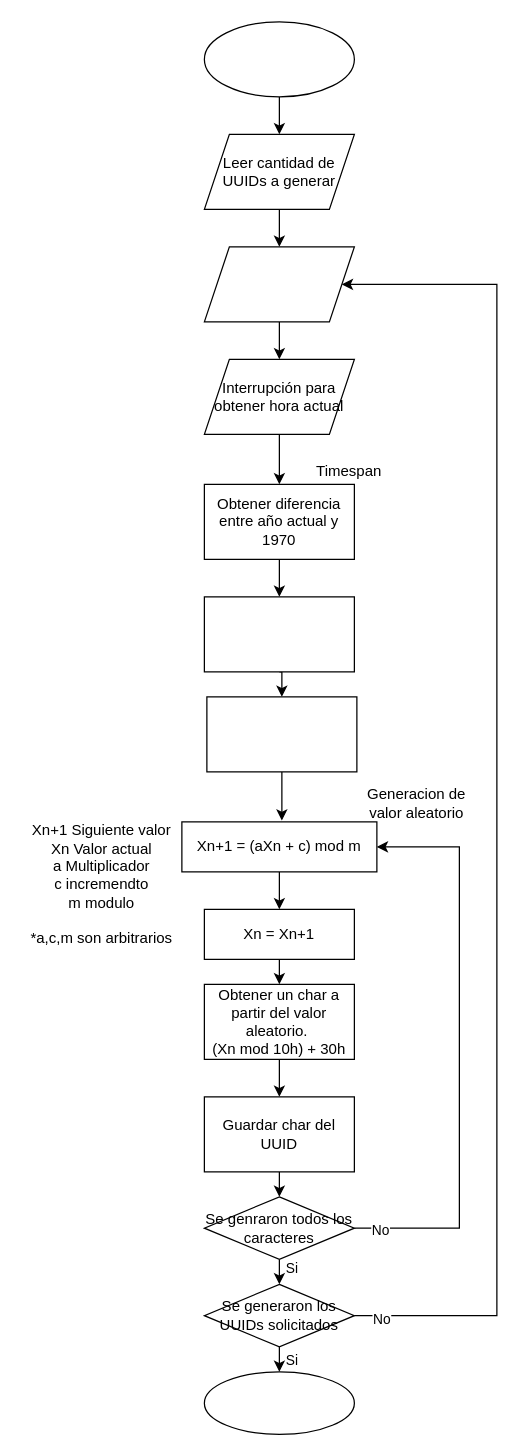
The diagram is 529 pixels wide and 1456 high, and some of its shapes have lost their labels. The shapes that lost their labels are listed below. From the top down, each one's centre as x and y in pixels, then its label:
At point (278, 59): "Inicio Generador UUID".
At point (278, 284): "Interrupción para obtener fecha actual".
At point (278, 634): "Conventir a milisegundos".
At point (281, 734): "X = Milisegundos totales".
At point (278, 1402): "Fin".
